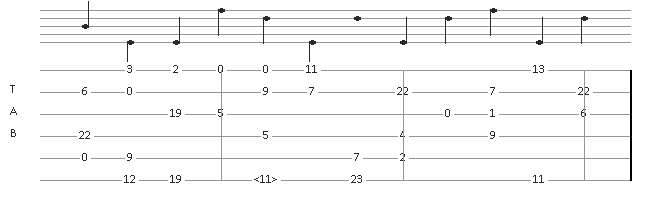0: (82, 152, 92, 164), (127, 86, 137, 98), (218, 64, 228, 76), (263, 64, 273, 76), (445, 108, 455, 120)
1: (490, 108, 500, 120)
11: (306, 64, 322, 76), (533, 174, 549, 186)
12: (124, 174, 140, 186)
13: (533, 64, 549, 76)
19: (170, 174, 186, 186), (170, 108, 186, 120)
2: (173, 64, 183, 76), (400, 152, 410, 164)
22: (79, 130, 95, 142), (397, 86, 413, 98), (578, 86, 594, 98)
23: (351, 174, 367, 186)
3: (127, 64, 137, 76)
4: (400, 130, 410, 142)
5: (218, 108, 228, 120), (263, 130, 273, 142)
6: (82, 86, 92, 98), (581, 108, 591, 120)
7: (309, 86, 319, 98), (354, 152, 364, 164), (490, 86, 500, 98)
9: (127, 152, 137, 164), (263, 86, 273, 98), (490, 130, 500, 142)
harmonic: (254, 174, 282, 186)
